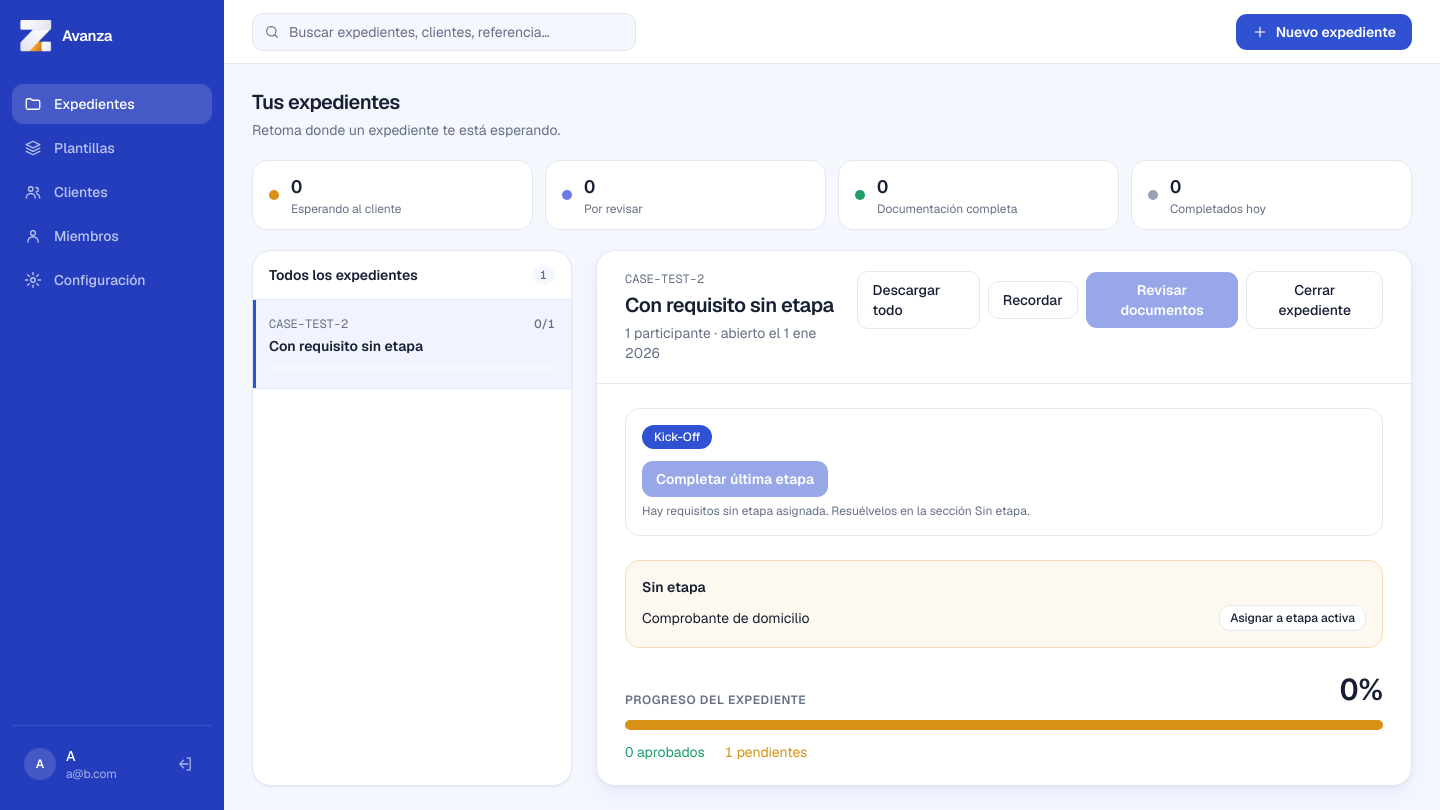
SinEtapaSection › shows the failure message from assignRequirementStageAction on the page, proving errors are no longer swallowed
The width and height of the screenshot is (1440, 810).
Click the button "Asignar a etapa activa" at (1293, 618), box [1219,605,1366,631]
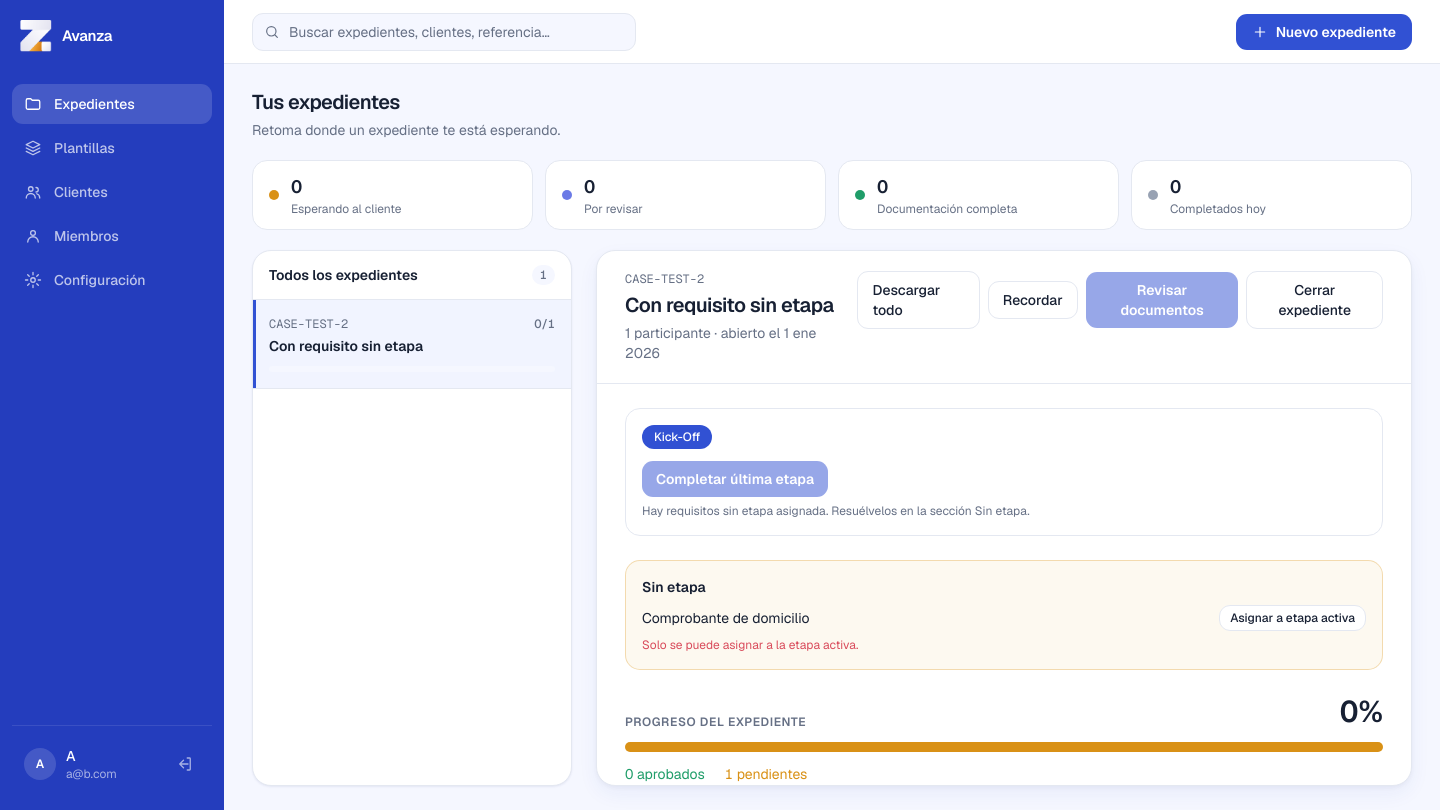
Expected: the text "Solo se puede asignar a la etapa activa." is shown, [642,637,858,653]
